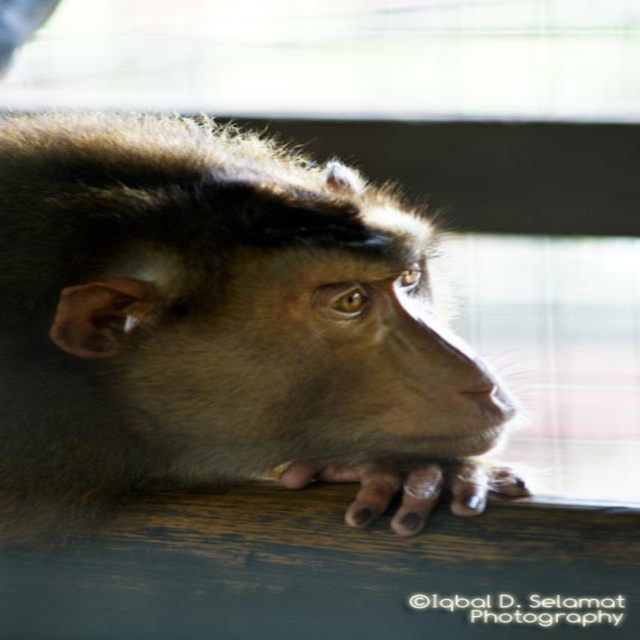Monkey: (0, 113, 529, 547)
